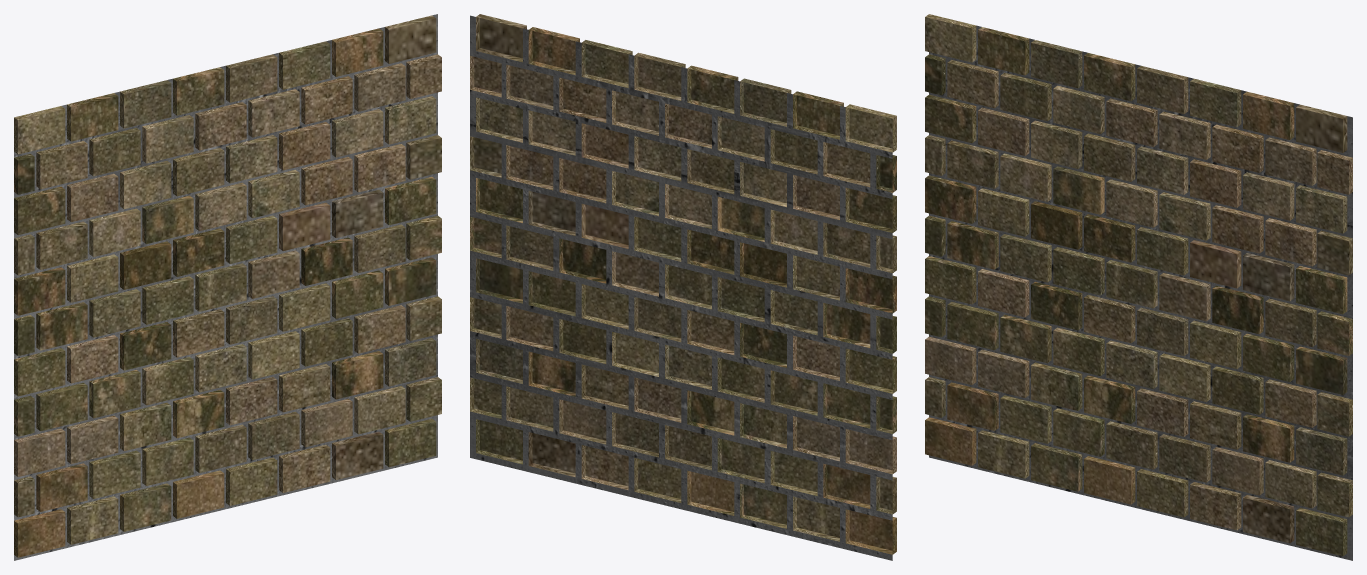
The model's file is Pared_029.fbx.
The picture shows the model from 3 angles, left to right: view 1: azimuth 30°, elevation 25°; view 2: azimuth 150°, elevation 25°; view 3: azimuth 330°, elevation 25°; orthographic projection.
Visible parts, largest first — view 1: Plane; view 2: Plane; view 3: Plane.
Part boxes in pixels (x1=…): Plane: x1=14, y1=14, x2=441, y2=560; Plane: x1=470, y1=14, x2=896, y2=560; Plane: x1=925, y1=14, x2=1352, y2=560.
Size of the model in its own units: 600 by 600 by 9.99.
